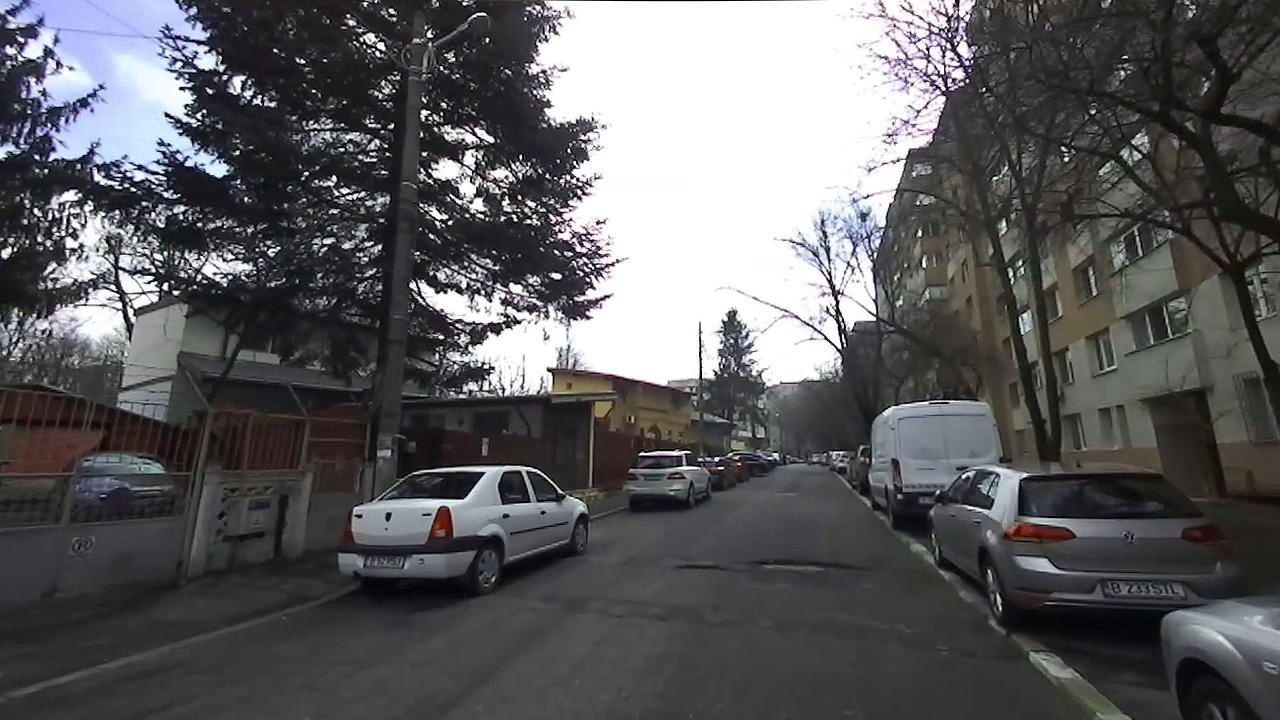pothole: (750, 556, 874, 576), (674, 560, 734, 572)
